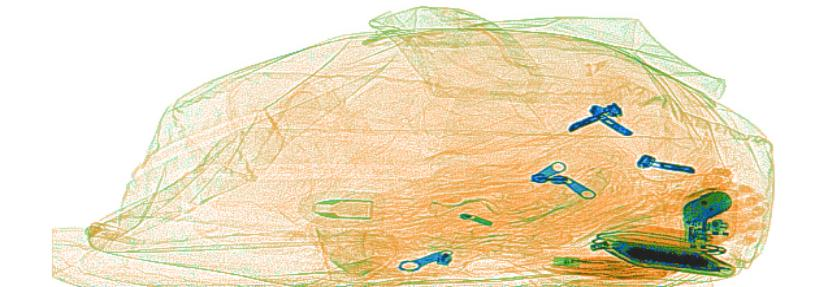battery: (678, 185, 734, 226)
